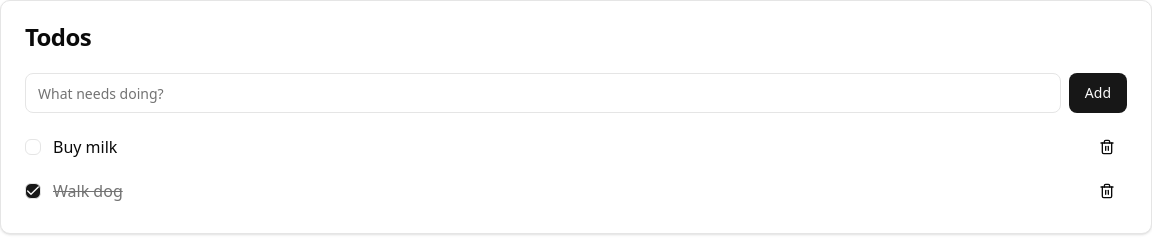
it: TodoList › removes a todo from the list after a successful delete
Expected: the button "Buy milk" is shown, [53, 136, 117, 158]
Click the button named "Delete \"Buy milk\"".
click(1107, 147)  # box [1087, 129, 1127, 165]
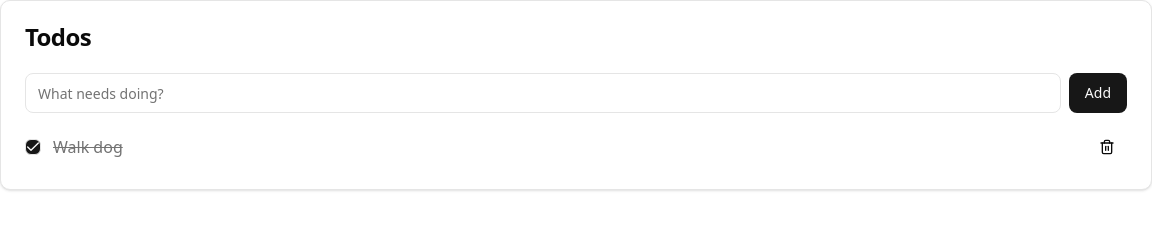
Result: the button "Buy milk" is gone
